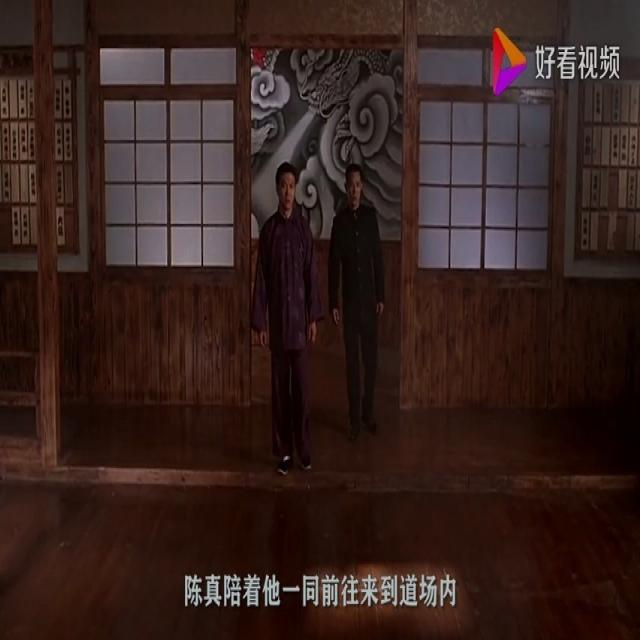non-fight: (252, 155, 318, 477), (325, 158, 389, 441)
